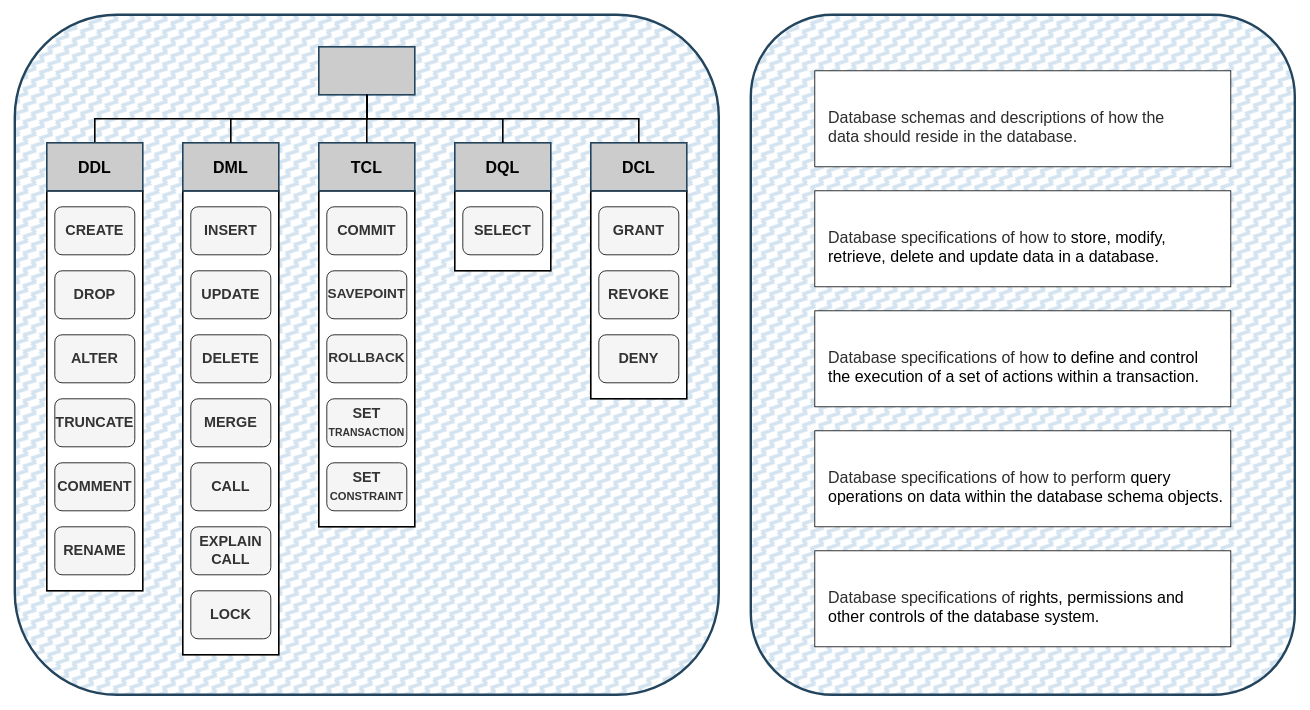
Image size: 1310x710. Some labels were removed from this diagram. The shapes that lost their labels are listed below. From the top down, each one's box as (x1, y1, x2, y2) in pixels, then its label:
(318, 46, 415, 95): SQL
(814, 70, 1231, 167): DDL: Data Definition Language
(814, 190, 1231, 287): DML: Data Manipulation Language
(814, 310, 1231, 407): TC L: Transaction Control Language
(814, 430, 1231, 527): DQL: Data Query Language
(814, 550, 1231, 647): DCL: Data Control Language
